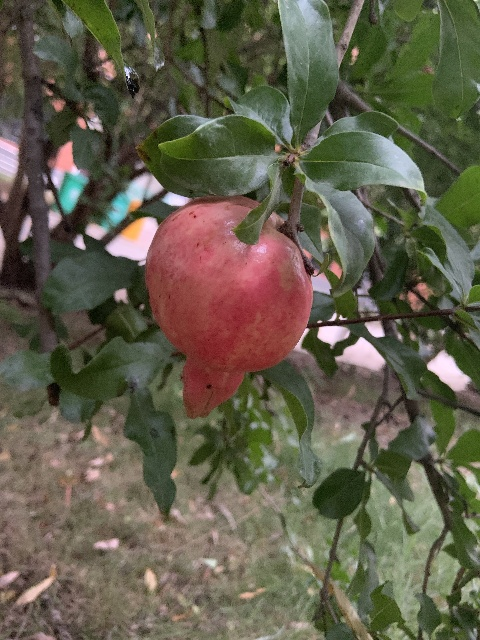ripe: (144, 195, 312, 420)
